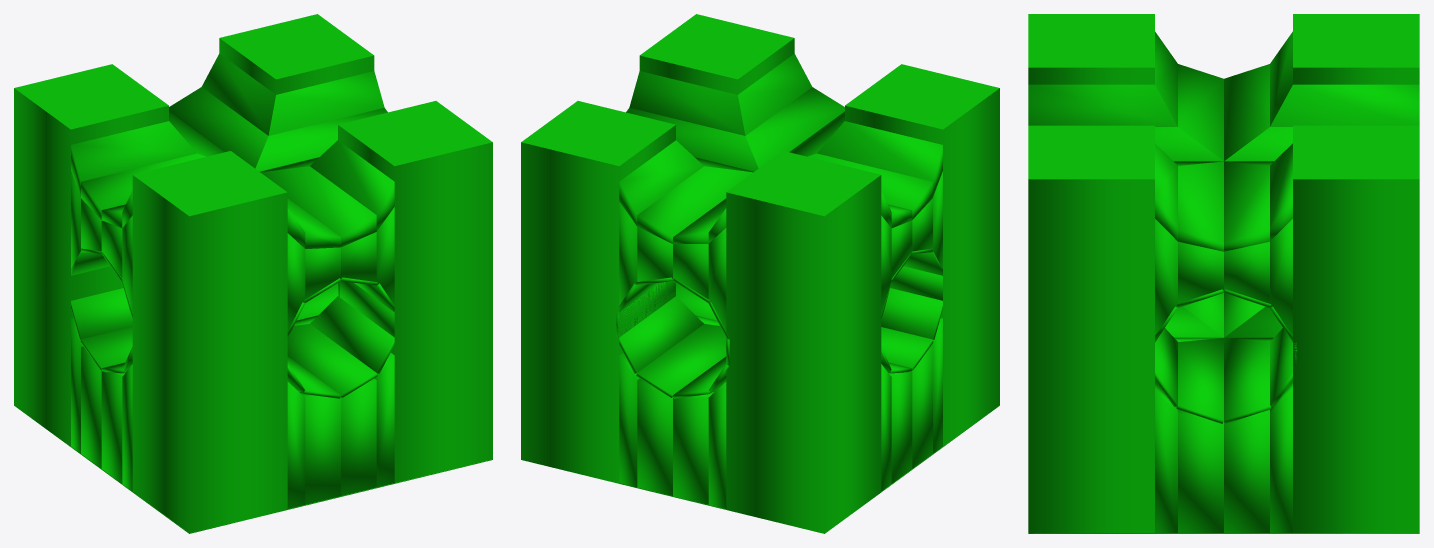
Rendered from UCXKugelbahn.14.fbx.
3 views of the same model, side by side, from view 1: azimuth 30°, elevation 25°; view 2: azimuth 150°, elevation 25°; view 3: azimuth 270°, elevation 25° (orthographic). The views are drawn at different scales.
Parts seen in each view (by area): view 1: UCX_Kugelbahn.14_low; view 2: UCX_Kugelbahn.14_low; view 3: UCX_Kugelbahn.14_low.
Part boxes in pixels (x1=…): UCX_Kugelbahn.14_low: x1=14, y1=14, x2=492, y2=533; UCX_Kugelbahn.14_low: x1=521, y1=14, x2=999, y2=533; UCX_Kugelbahn.14_low: x1=1028, y1=14, x2=1419, y2=533.
Bounding box in the file's own units: 0.05 × 0.05 × 0.05.
